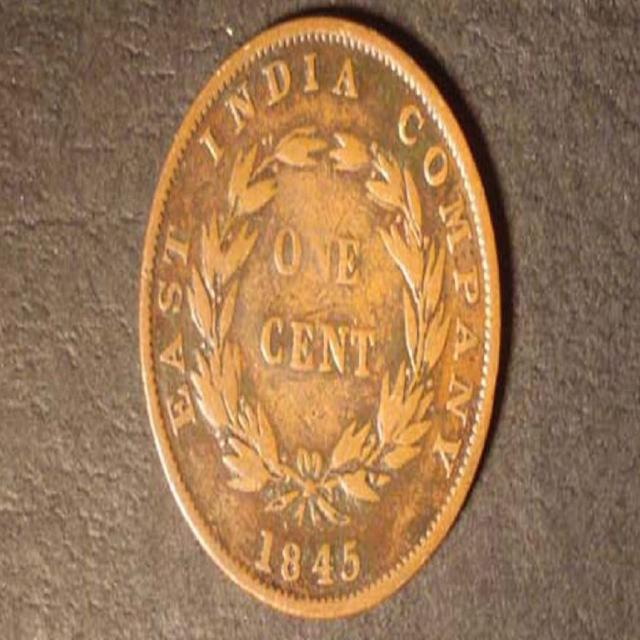Coin: (138, 11, 505, 622)
